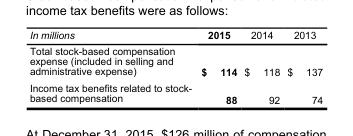table: (28, 29, 322, 104)
table column: (28, 29, 195, 104), (195, 29, 239, 104), (239, 29, 282, 104), (282, 29, 322, 104)
table column header: (28, 29, 322, 42)
table row: (28, 42, 322, 79), (28, 79, 322, 104), (28, 29, 322, 42)
